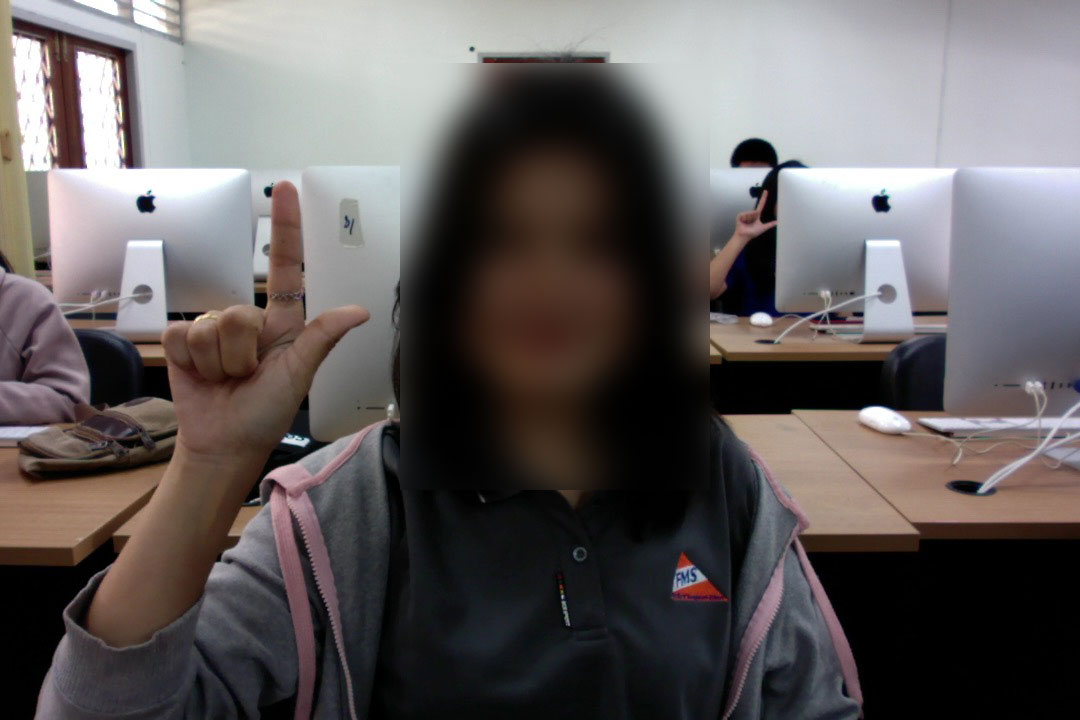lor: (127, 168, 381, 491)
